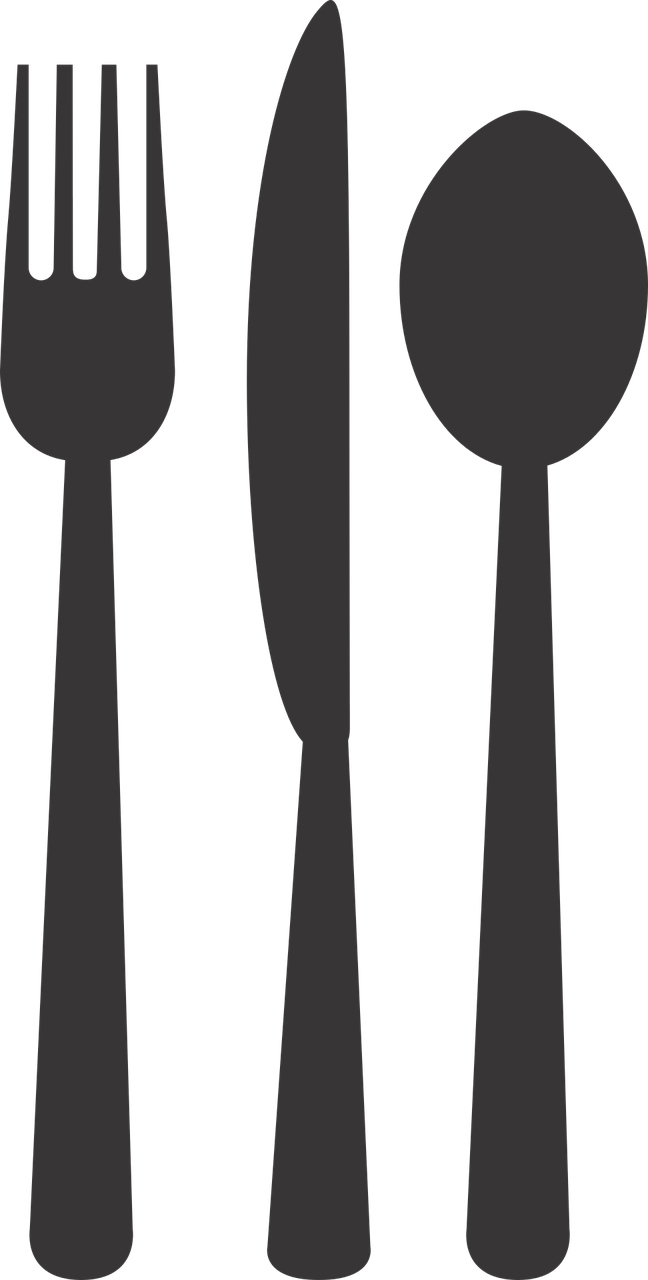knife: (252, 0, 390, 1280)
